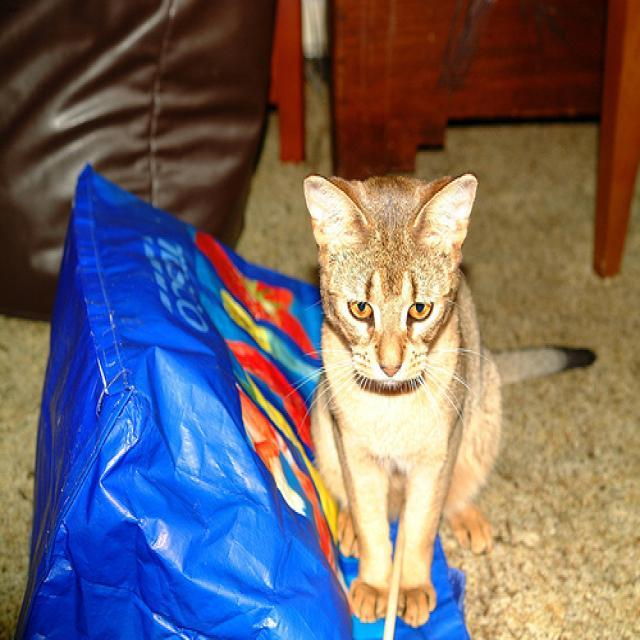Abyssinian: (302, 171, 476, 386)
